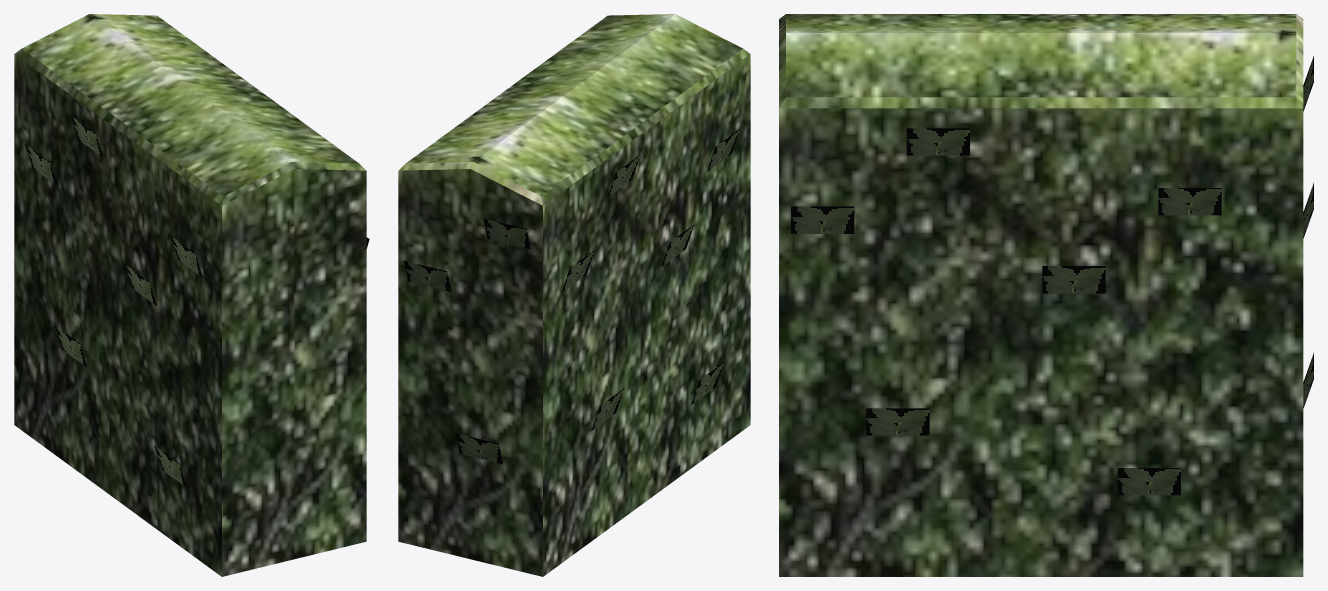
Rendered from Sketchfab_2023_02_24_14_06_46.fbx.
The picture shows the model from 3 angles, left to right: view 1: azimuth 30°, elevation 25°; view 2: azimuth 150°, elevation 25°; view 3: azimuth 270°, elevation 25°; orthographic projection. The views are drawn at different scales.
Visible parts, largest first — view 1: HEDGE; view 2: HEDGE; view 3: HEDGE.
Boxes of the visible parts, <box> form: HEDGE: <box>14,14,369,576</box>; HEDGE: <box>398,14,750,576</box>; HEDGE: <box>779,14,1313,576</box>.
Bounding box in the file's own units: 74.54 × 175 × 170.
